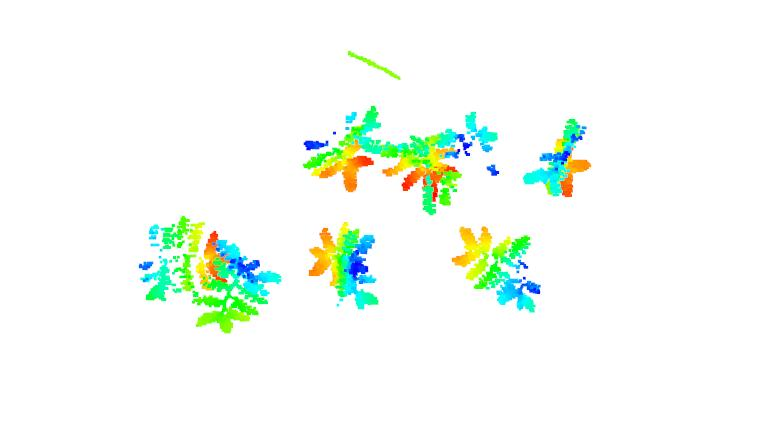chickpea: (381, 115, 497, 216), (137, 215, 233, 304), (454, 225, 544, 313), (298, 106, 383, 196), (193, 245, 281, 331), (307, 223, 384, 312), (523, 116, 591, 197)
